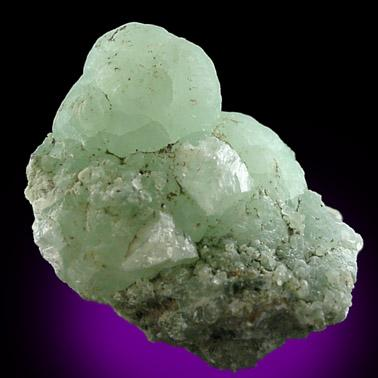prehnite: (25, 23, 363, 302)
